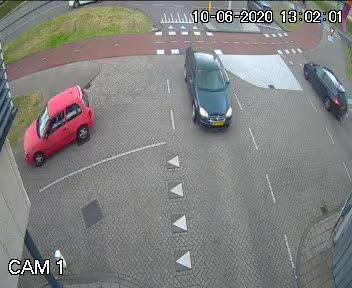car: (14, 80, 99, 170), (171, 43, 232, 139), (295, 60, 352, 128), (244, 0, 268, 21)
